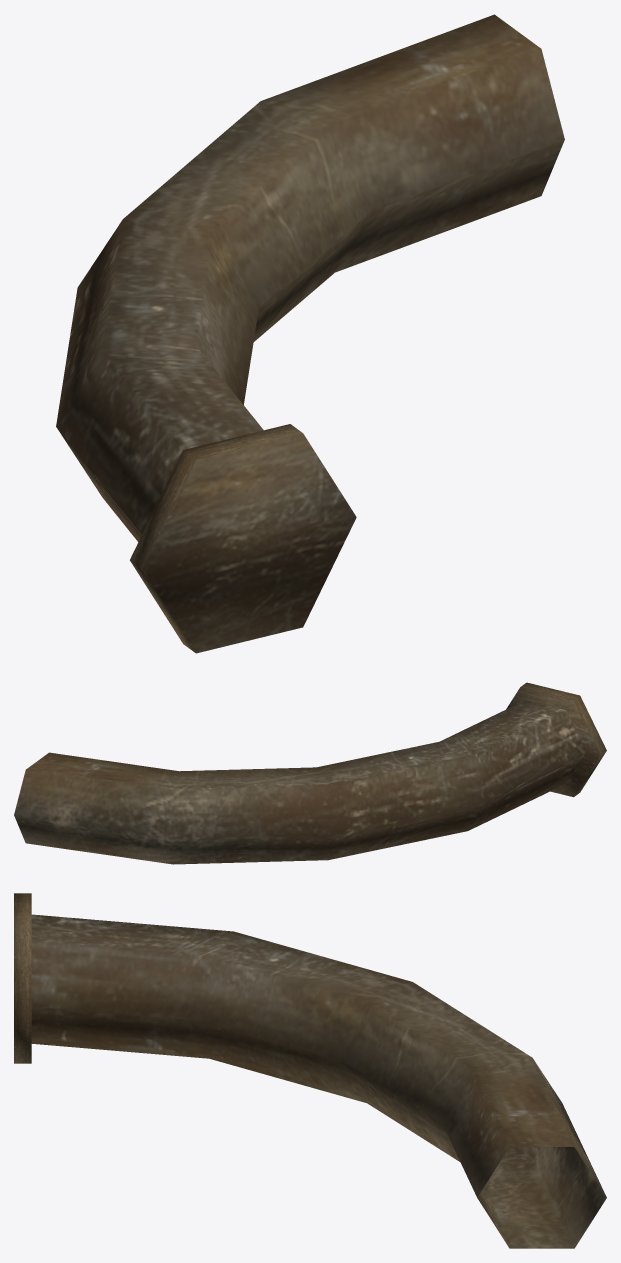
The model's file is small_brown_8_elbow_hz.fbx.
The picture shows the model from 3 angles, top to bottom: view 1: azimuth 30°, elevation 25°; view 2: azimuth 150°, elevation 25°; view 3: azimuth 270°, elevation 25°; orthographic projection. The views are drawn at different scales.
Parts seen in each view (by area): view 1: polySurface662; view 2: polySurface662; view 3: polySurface662.
Boxes of the visible parts, left/top/right/bottom form: polySurface662: left=56, top=14, right=564, bottom=653; polySurface662: left=14, top=682, right=606, bottom=864; polySurface662: left=14, top=893, right=606, bottom=1248.
Size of the model in its own units: 1.16 by 0.2853 by 1.14.
